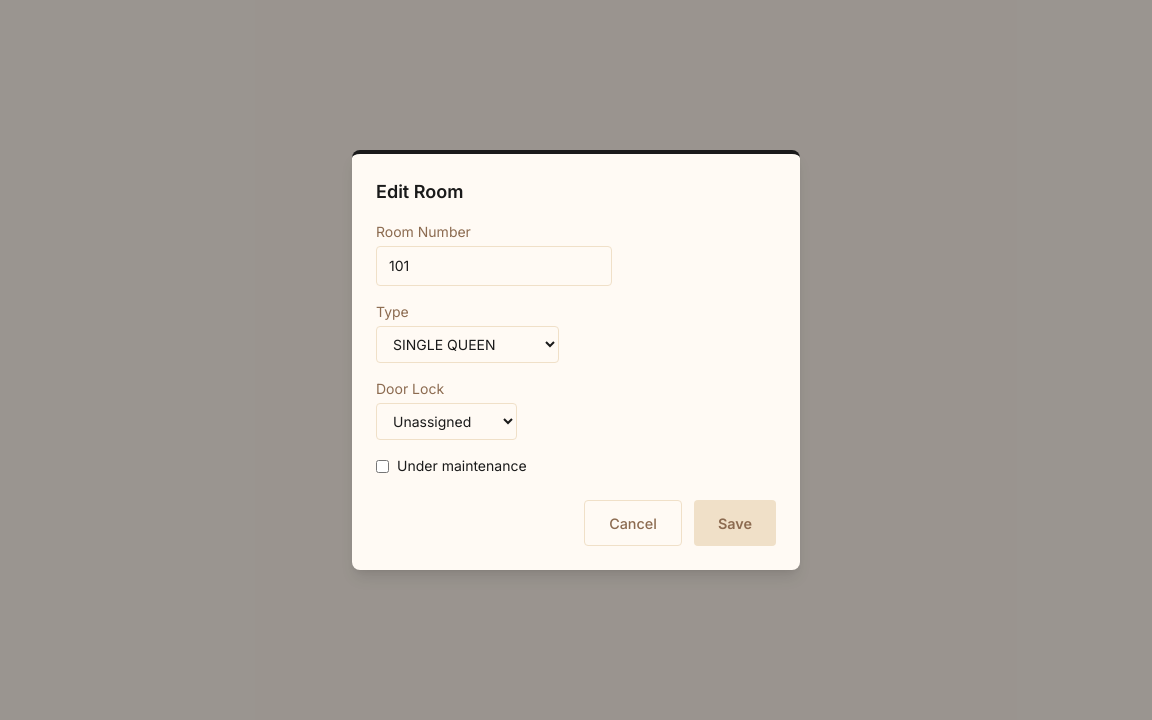
Test: RoomModal - admin editing an existing room › requires a maintenance note once the maintenance checkbox is checked
Check: the text "Door Lock" is shown, box [376,380,444,397]
Click the checkbox labelled "Under maintenance".
click(382, 466)  # box [376,460,389,473]
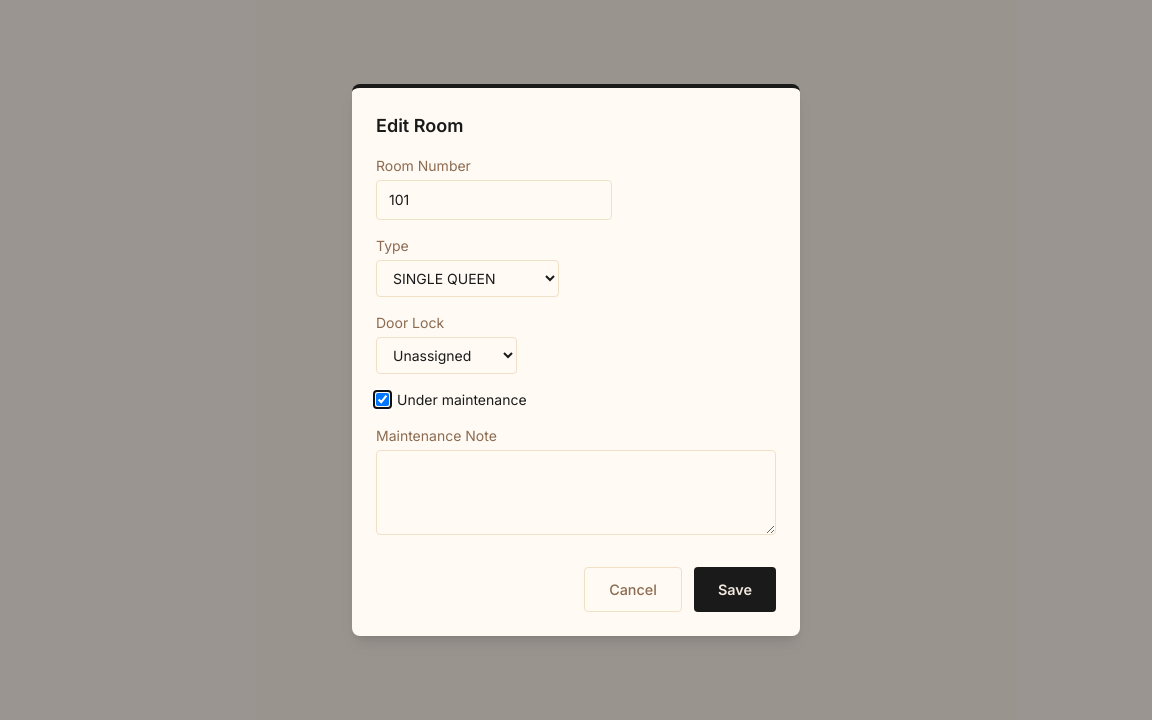
Check: the text "Maintenance Note" is shown, box [376,427,497,444]
